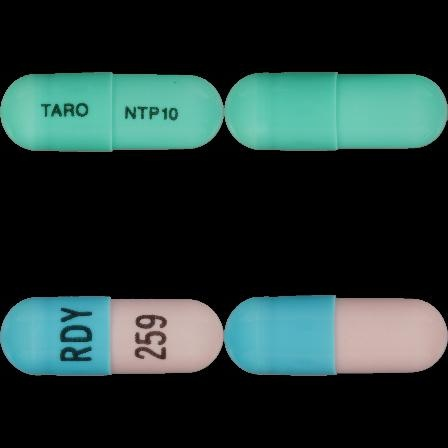61786-833: (0, 0, 224, 224)
